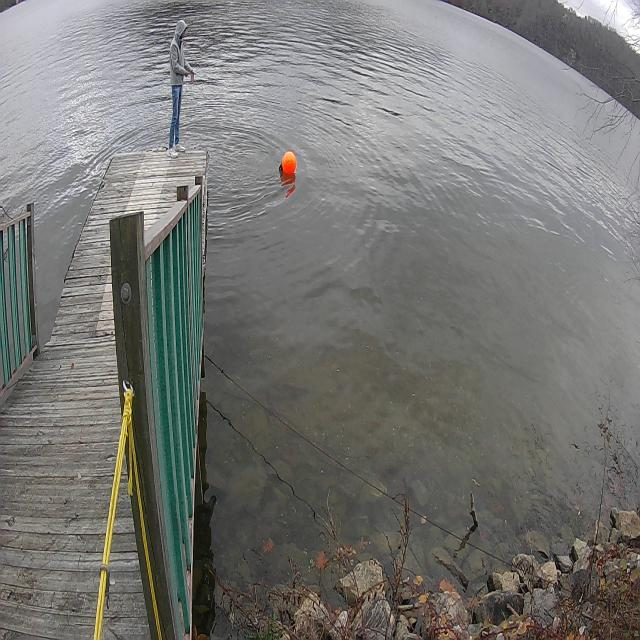Buoy: (276, 146, 302, 186)
